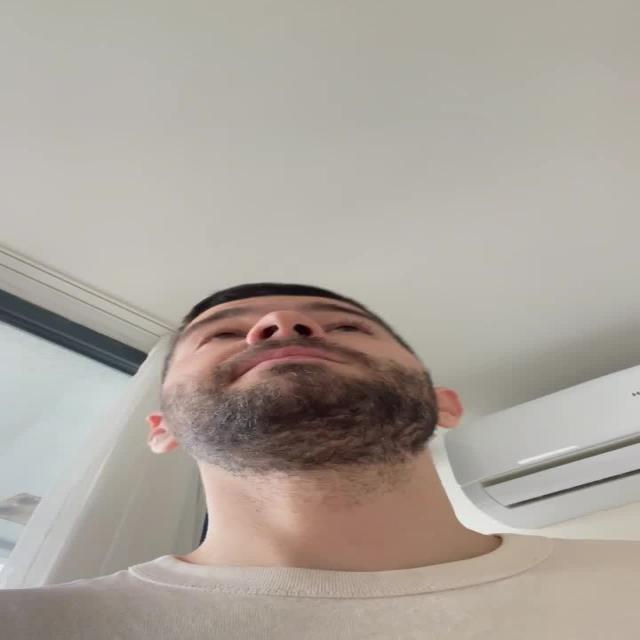earlobe: (148, 440, 180, 454), (435, 417, 460, 430)
eye: (188, 330, 247, 346), (327, 323, 379, 336)
nose: (249, 334, 326, 346)
wholeear: (146, 412, 182, 454), (430, 387, 464, 430)
